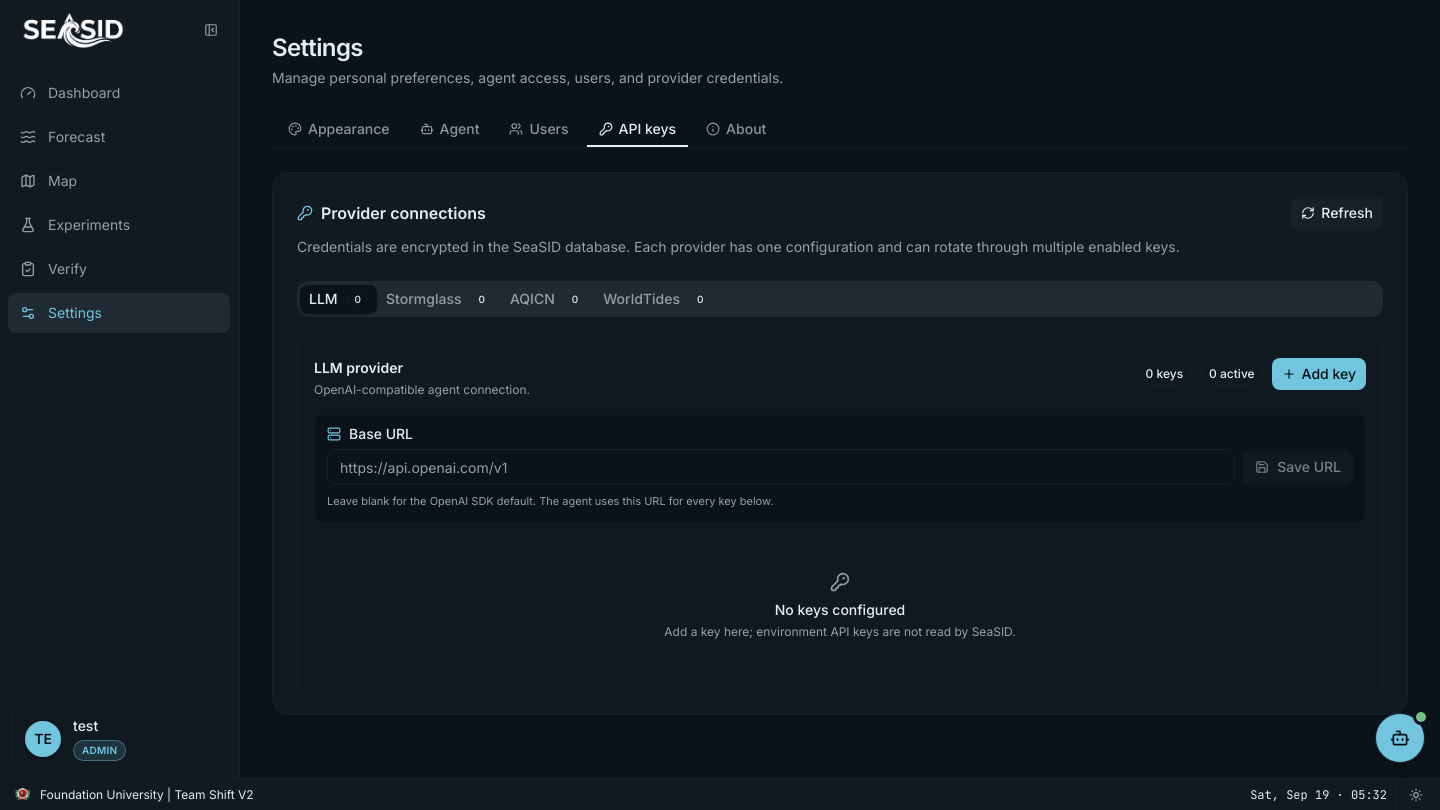
App routing › merges Agent settings and renders tools in an accordion
Click the tab with test id "settings-tab-agent" at (450, 129), box [407,116,492,142]
(page scrolled)
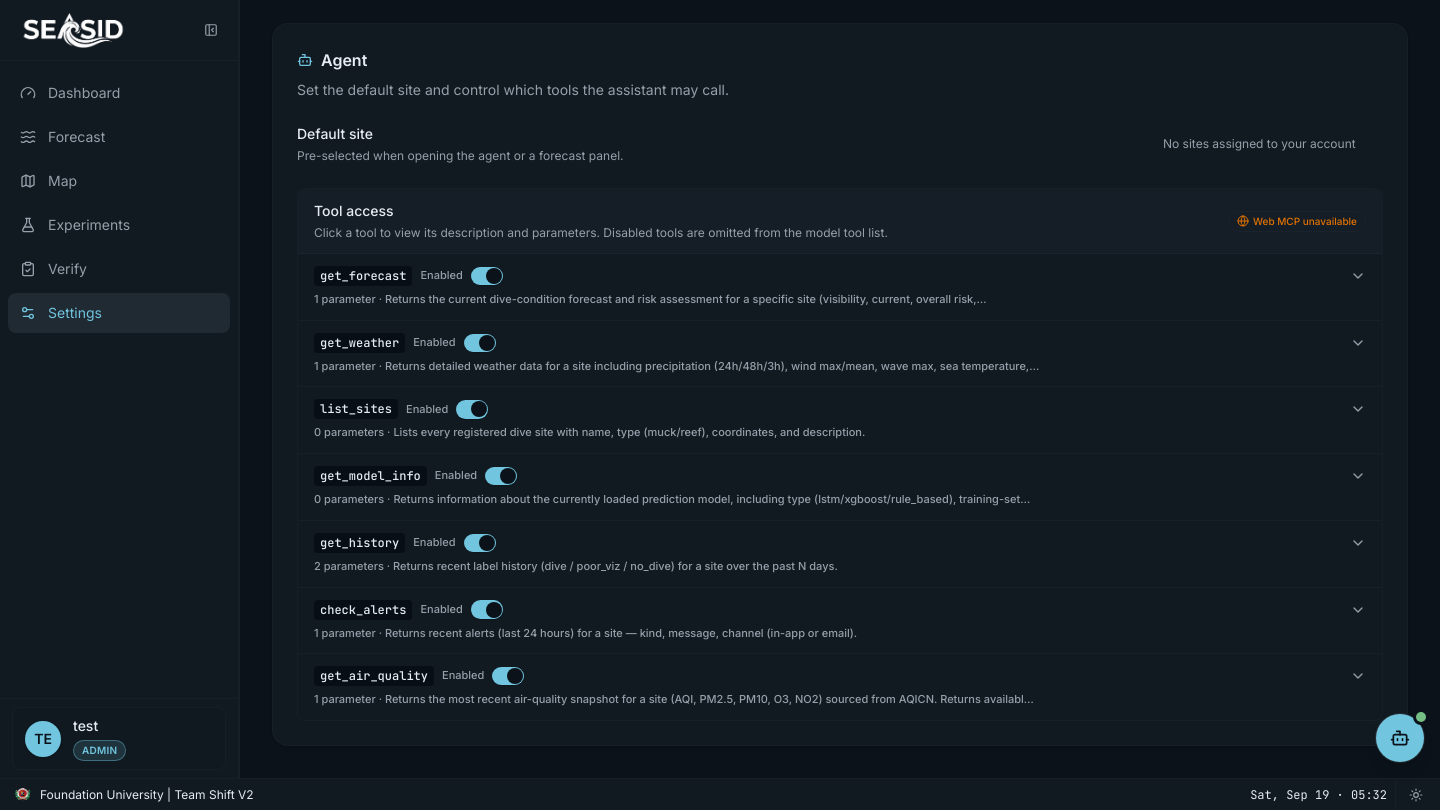
Check: the element with test id "settings-agent" is shown
Check: the element with test id "settings-tools" is shown, box [297,188,1383,721]
Check: the element with test id "tools-accordion" is shown, box [298,254,1382,720]
